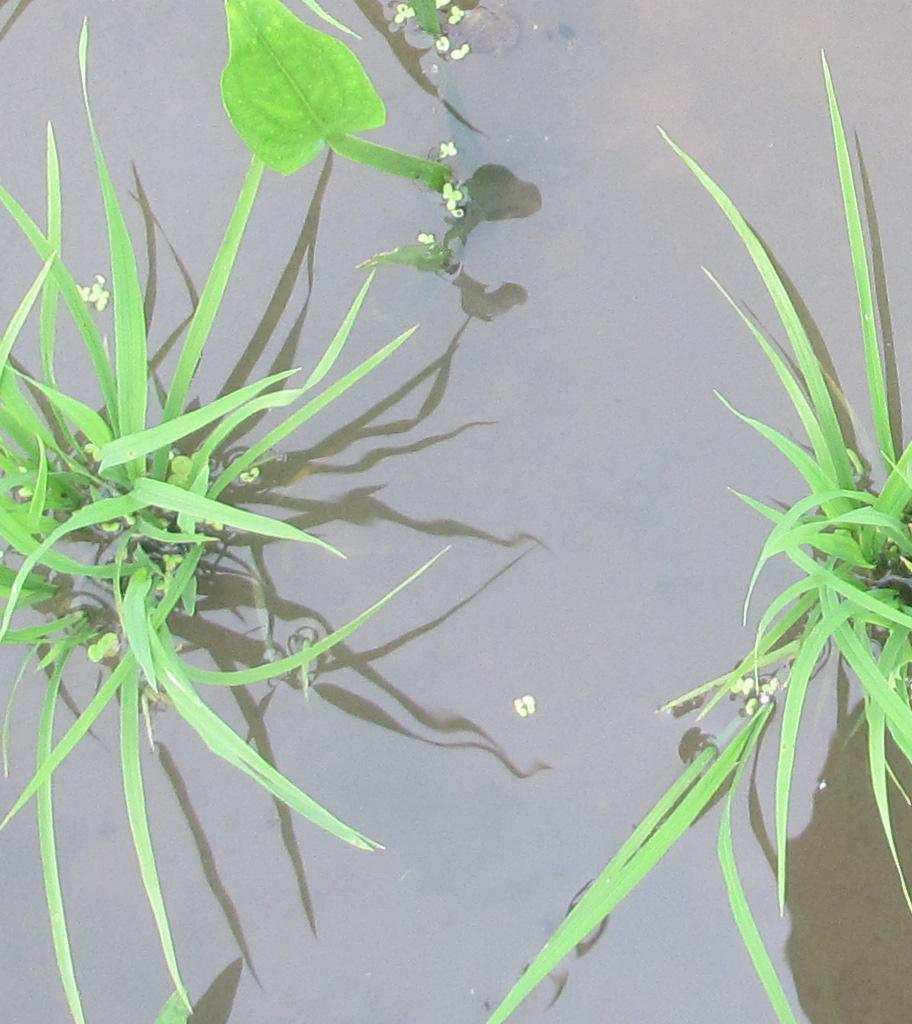Weed: (205, 3, 457, 199)
